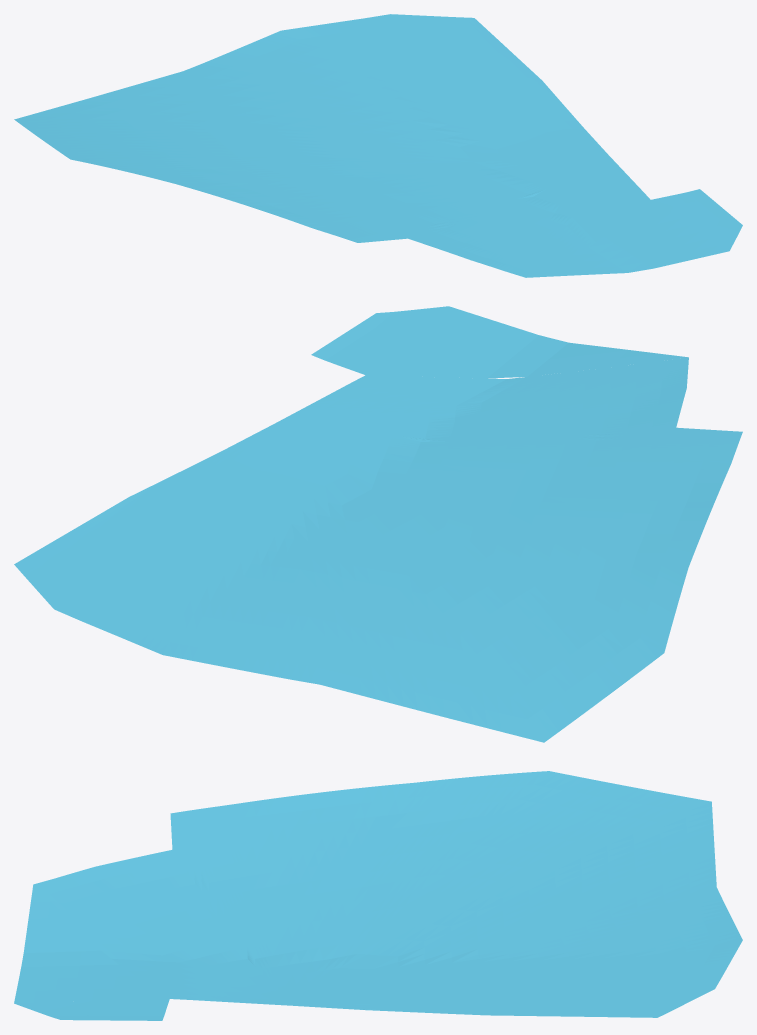
File: moon-lake.glb
The picture shows the model from 3 angles, top to bottom: view 1: azimuth 30°, elevation 25°; view 2: azimuth 150°, elevation 25°; view 3: azimuth 270°, elevation 25°; orthographic projection. The views are drawn at different scales.
Parts seen in each view (by area): view 1: MoonLakeFootprint; view 2: MoonLakeFootprint; view 3: MoonLakeFootprint.
Part boxes in pixels (box(x1,y1,x2,y2)): MoonLakeFootprint: box(14, 14, 742, 277); MoonLakeFootprint: box(14, 306, 742, 742); MoonLakeFootprint: box(14, 771, 742, 1020).
Size of the model in its own units: 55.15 by 4.12 by 70.55.
